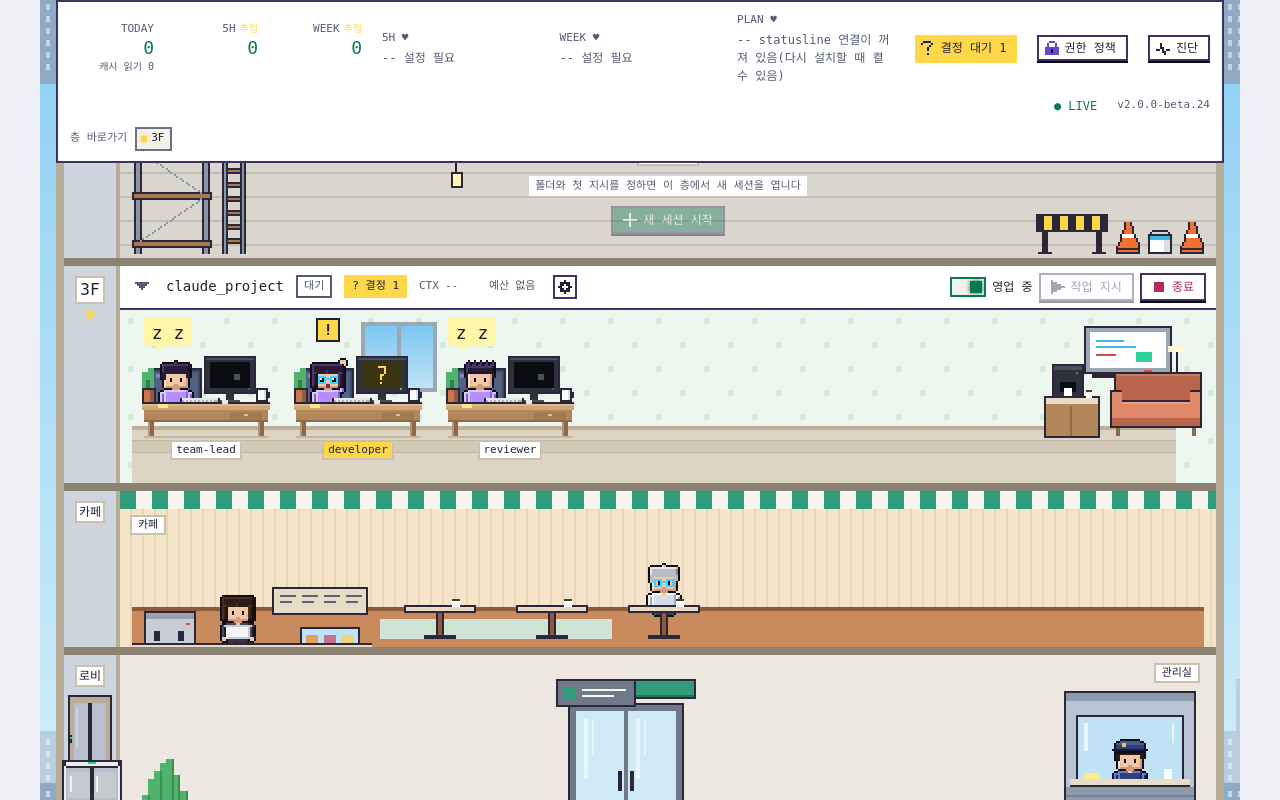
Test case: 결정 보고서 열기 › 손 든 책상은 버튼이고 누르면 그 결정의 보고서가 열린다
(page scrolled)
Click the button with aria-label "developer, 결정 필요. 결정 보고서 열기": (358, 400) left=292, top=318, right=424, bottom=483
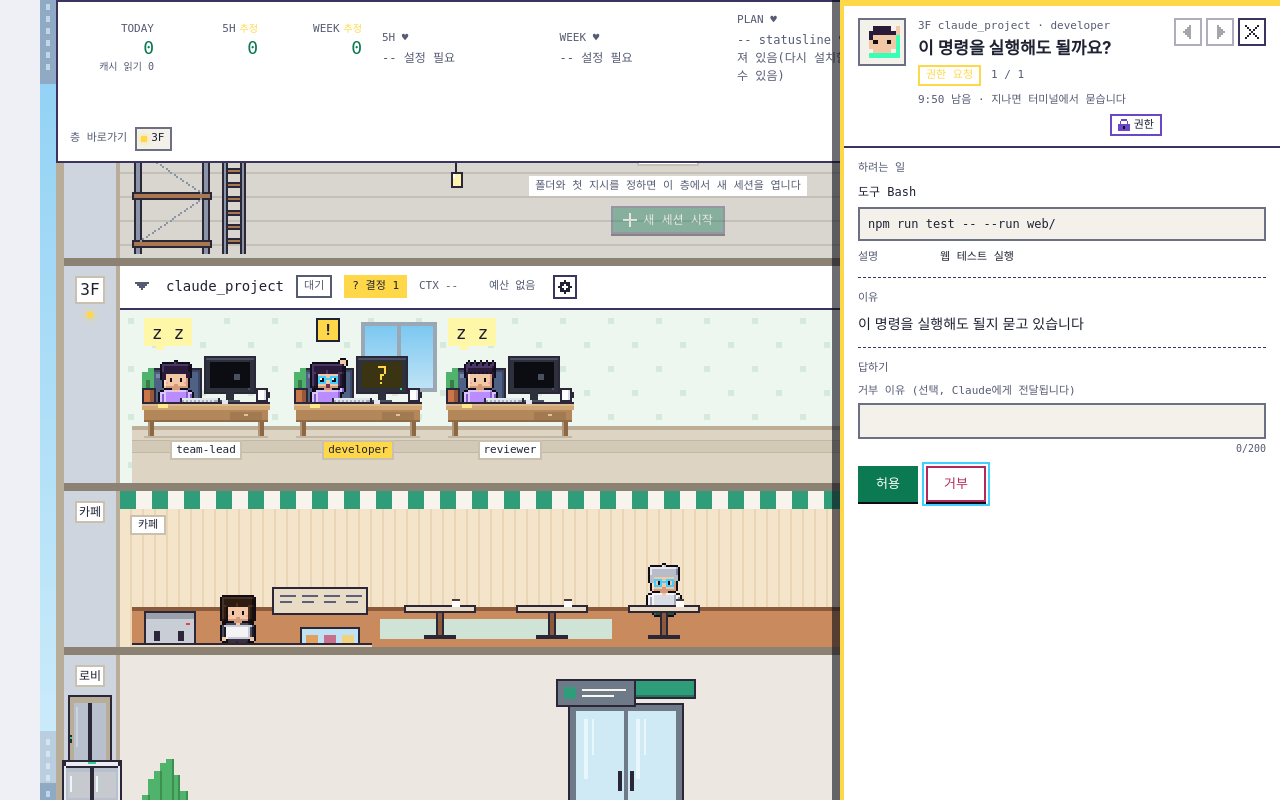
Expected: the dialog shows "3F claude_project · developer", left=918, top=19, right=1110, bottom=32
Expected: the dialog shows "도구 Bash", left=858, top=185, right=916, bottom=199
Expected: the dialog shows "npm run test -- --run web/", left=868, top=217, right=1056, bottom=231
